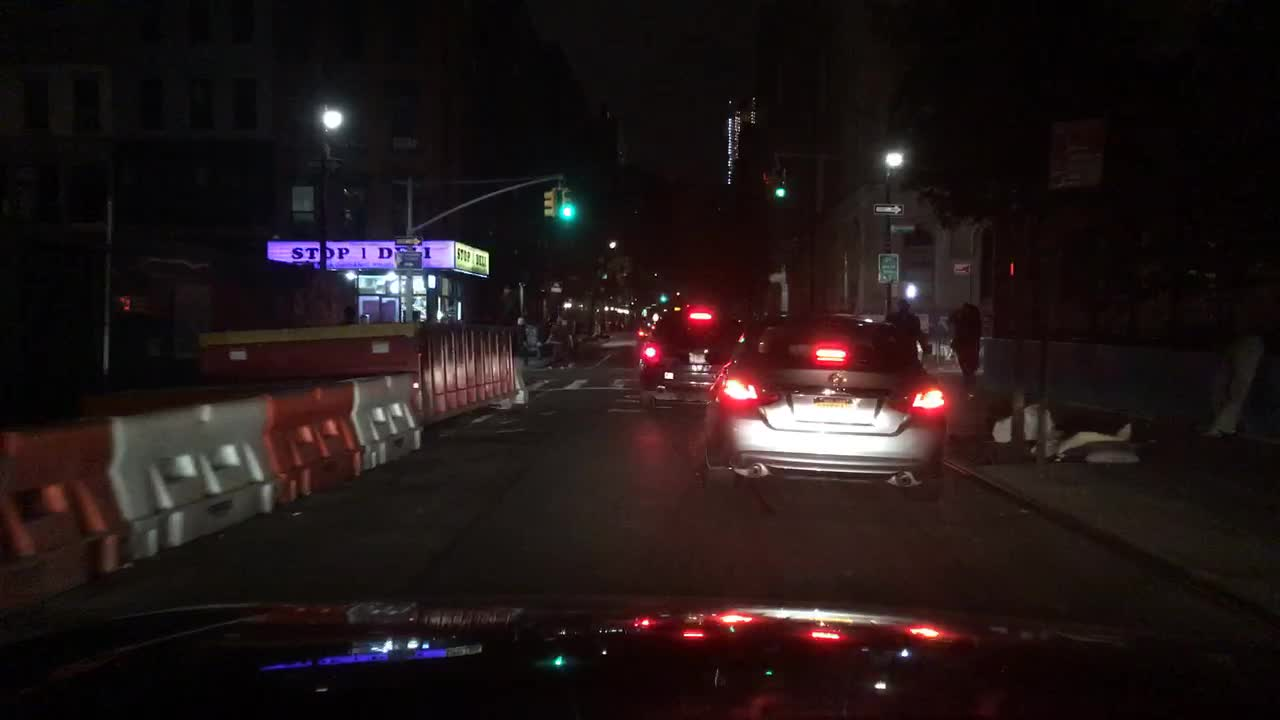car: (698, 307, 951, 497), (638, 303, 741, 397), (635, 304, 685, 347)
person: (947, 300, 982, 399), (886, 297, 930, 371), (546, 311, 574, 371), (514, 315, 535, 367)
traffic light: (561, 185, 578, 221), (759, 159, 773, 200), (542, 186, 556, 223), (1001, 258, 1028, 277), (877, 254, 896, 281), (886, 221, 919, 235), (113, 293, 134, 314), (950, 261, 972, 279), (774, 170, 785, 197), (874, 203, 905, 212), (548, 281, 565, 295), (771, 272, 783, 283), (657, 290, 666, 304)
traffic sign: (1048, 117, 1107, 192), (309, 159, 342, 166)
